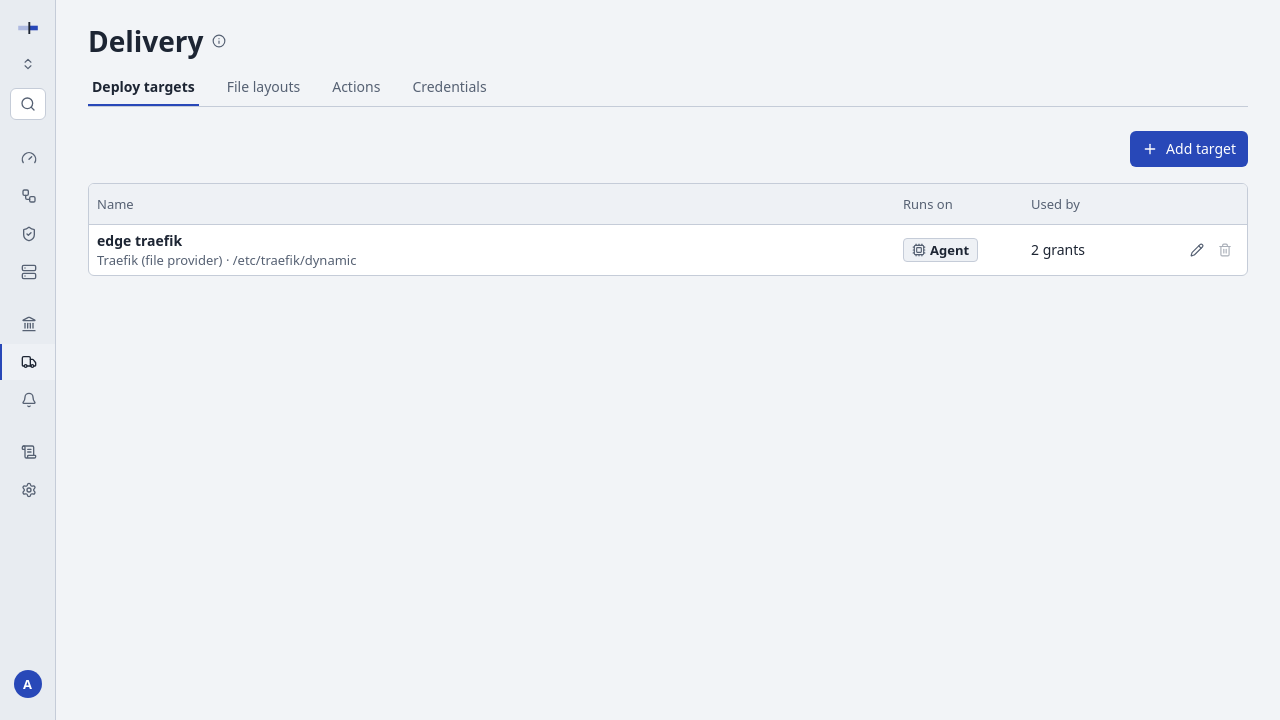
opens a click popover of the target grants, each linking to its grant
The width and height of the screenshot is (1280, 720).
Click the button "2 grants" at (1058, 250), box x1=1031 y1=240 x2=1085 y2=260
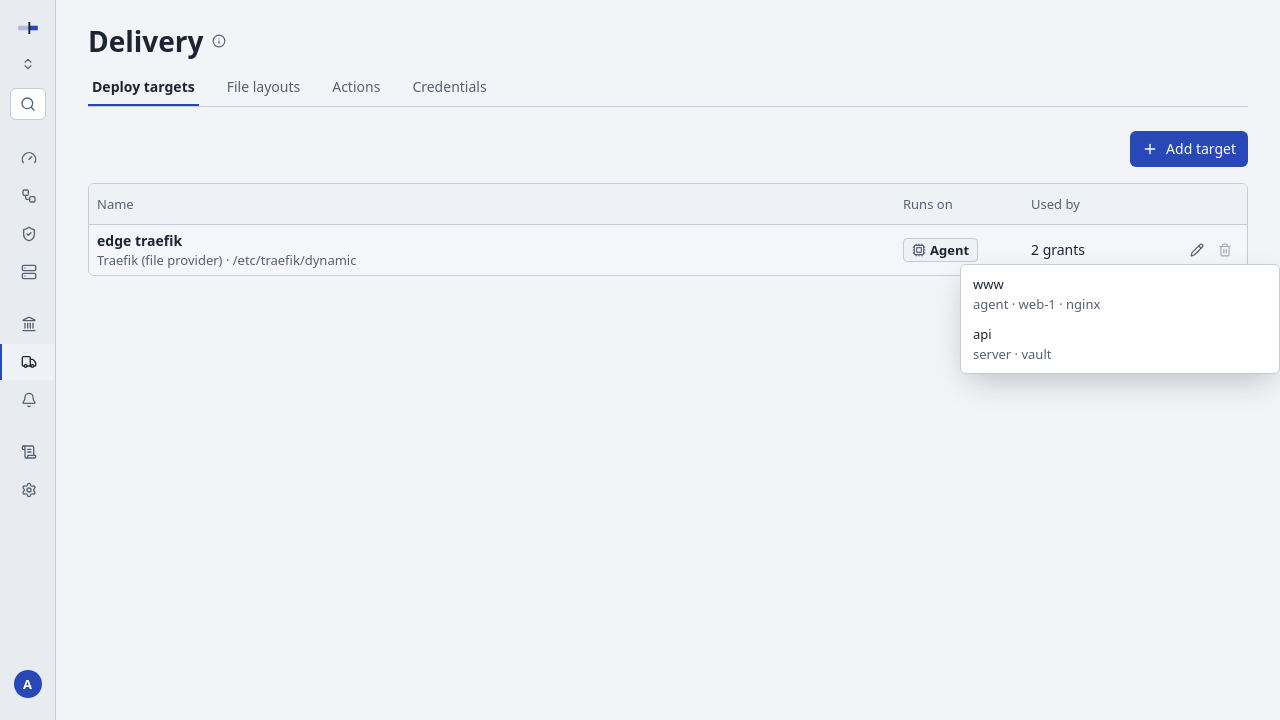
Expected: the text "api" is shown, x1=973 y1=325 x2=992 y2=343
